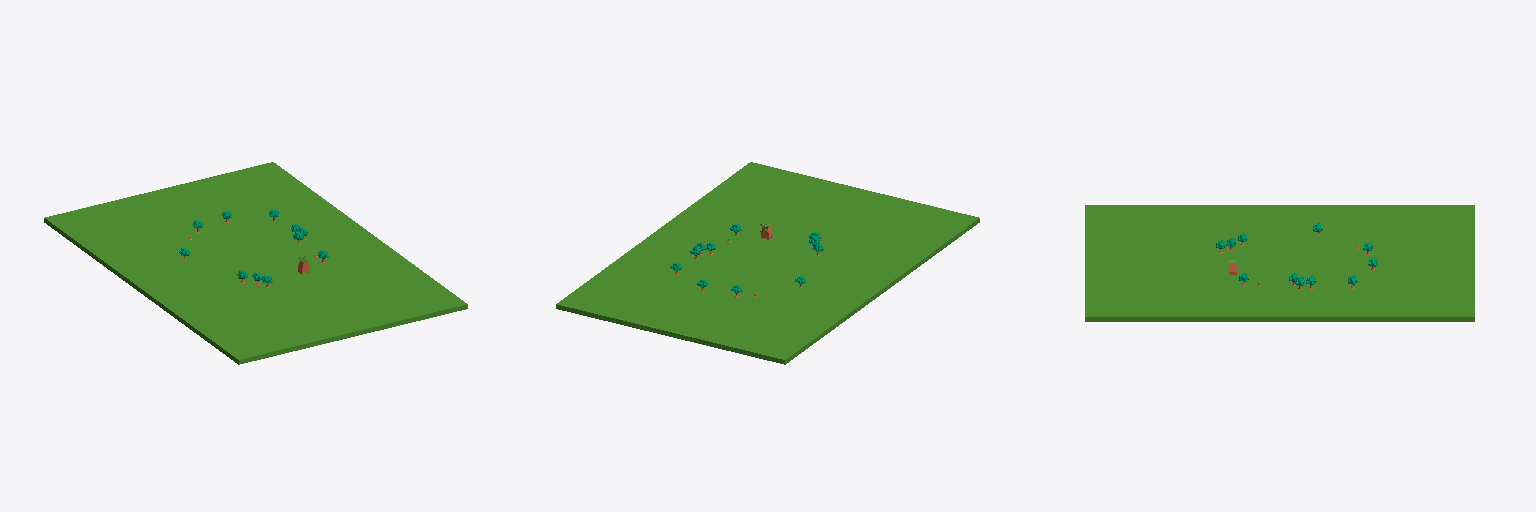
Rendered from table-green.obj.
3 renders of one model, left to right at view 1: azimuth 30°, elevation 25°; view 2: azimuth 150°, elevation 25°; view 3: azimuth 270°, elevation 25°, orthographic.
Visible parts, largest first — view 1: mergedBlocks; view 2: mergedBlocks; view 3: mergedBlocks.
Boxes of the visible parts, box(x1,y1,x2,y2) form: mergedBlocks: box(44, 162, 467, 364); mergedBlocks: box(556, 162, 979, 364); mergedBlocks: box(1085, 205, 1474, 321).
Size of the model in its own units: 51 by 4.13 by 75.